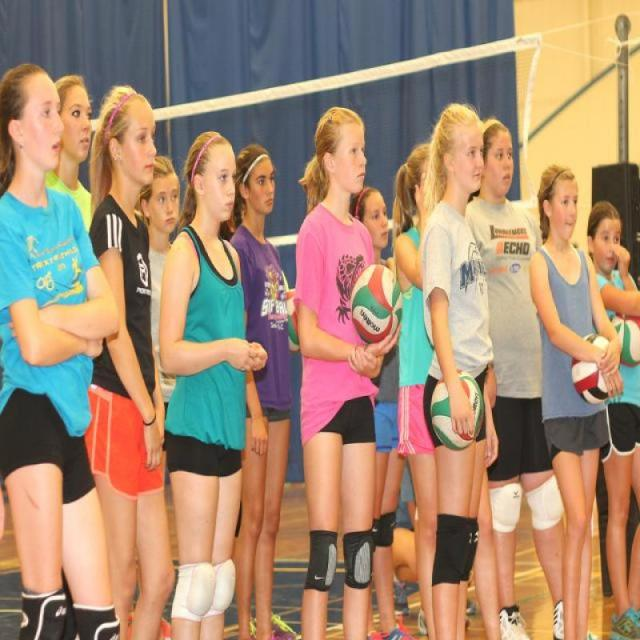volleyball: (430, 366, 484, 451), (349, 262, 403, 344), (570, 330, 613, 406), (611, 310, 640, 368), (286, 288, 300, 355)
